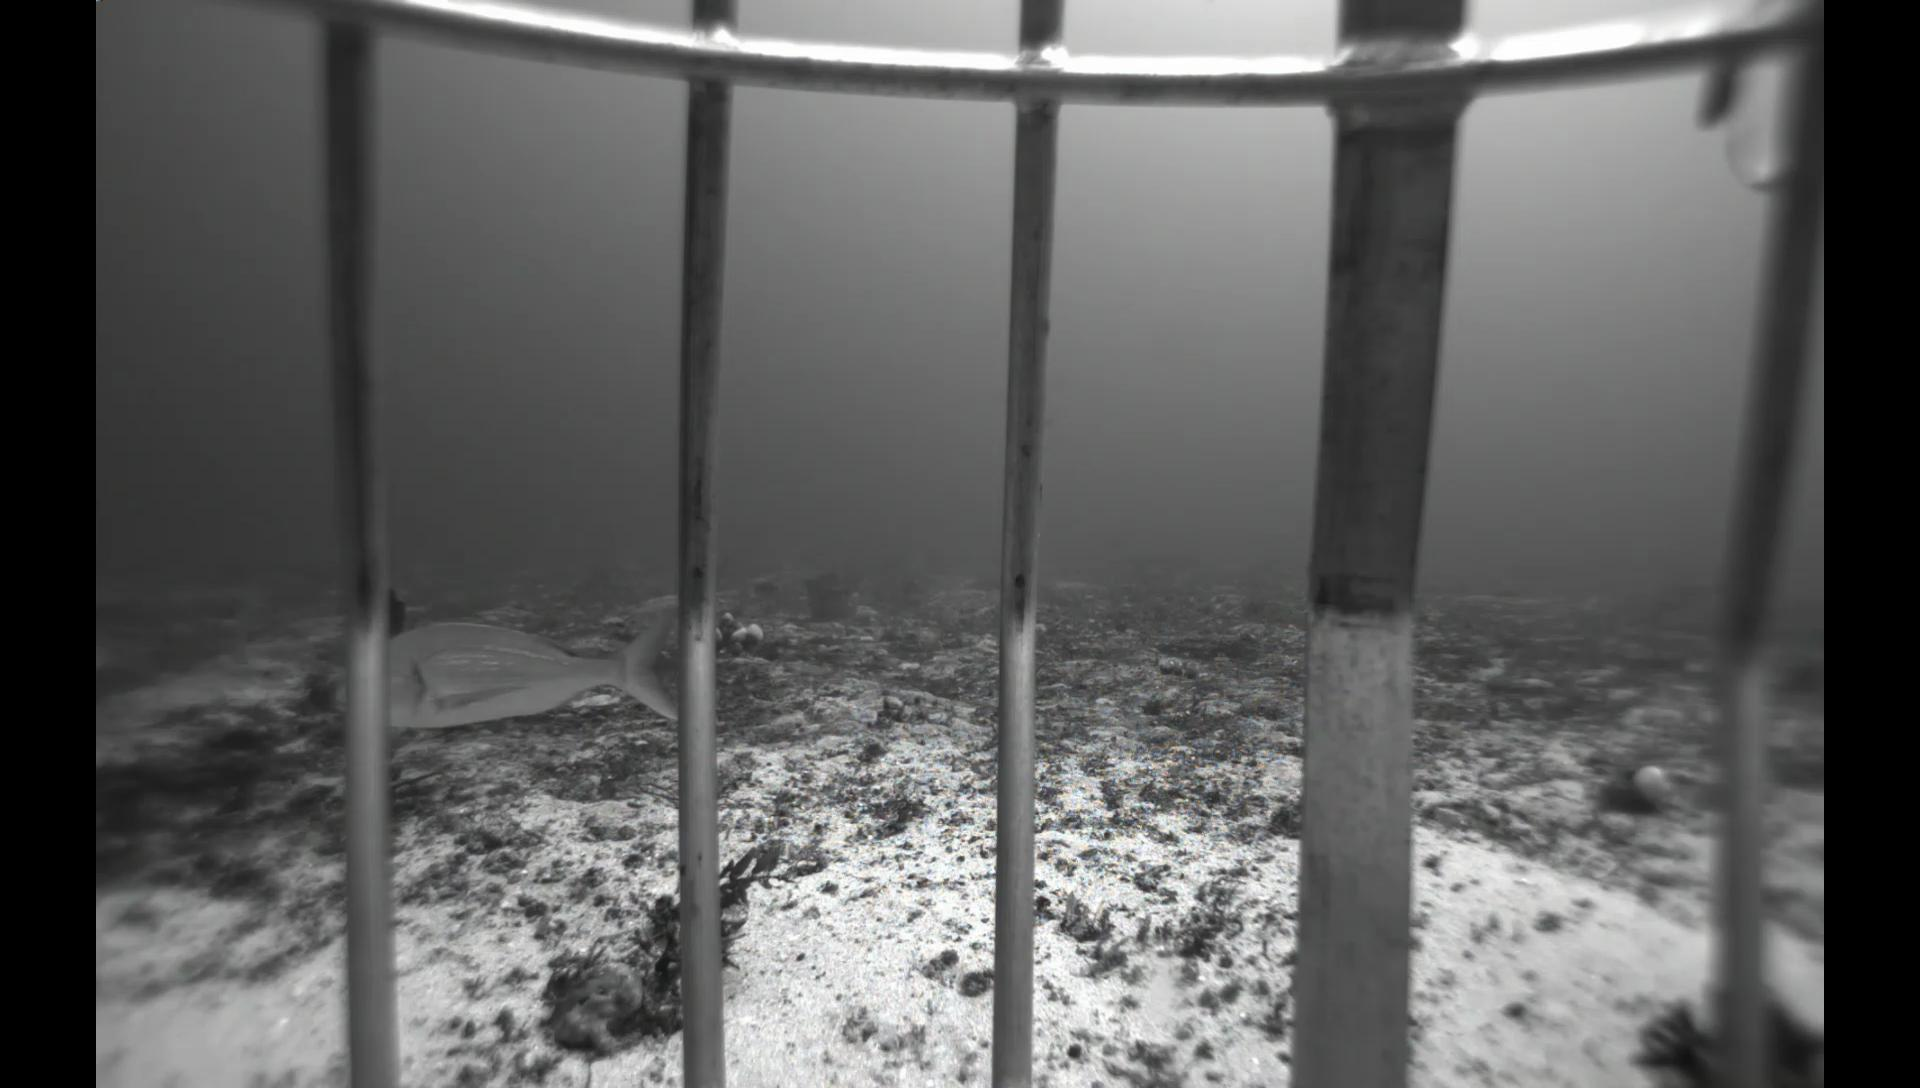CHAETODONOCELLATUS-170260307: (778, 554, 800, 575)
EPINEPHELUSMORIO-170021211: (386, 583, 411, 642)
PAGRUSPAGRUS-170212302: (318, 615, 684, 735)
PRISTIGENYSALTA-170050401: (293, 677, 339, 720)
